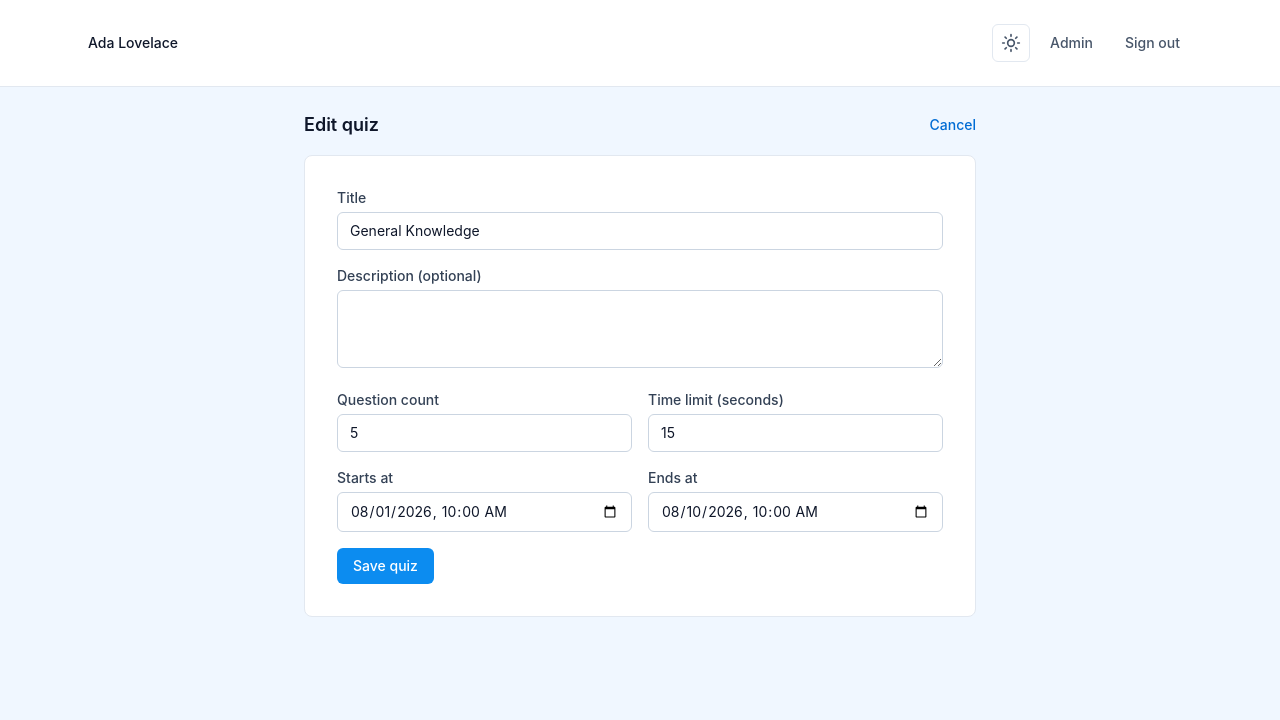
AdminQuizForm › should_prefill_from_list_fetch_and_submit_update_when_editing
Expected: the number field labelled "Question count" holds "5", [337,414,632,452]
Expected: the number field labelled "Time limit (seconds)" holds "15", [648,414,943,452]
Replace the text in the field labelled "Title" with "Renamed Quiz". click: x=640, y=231
box: [337,212,943,250]
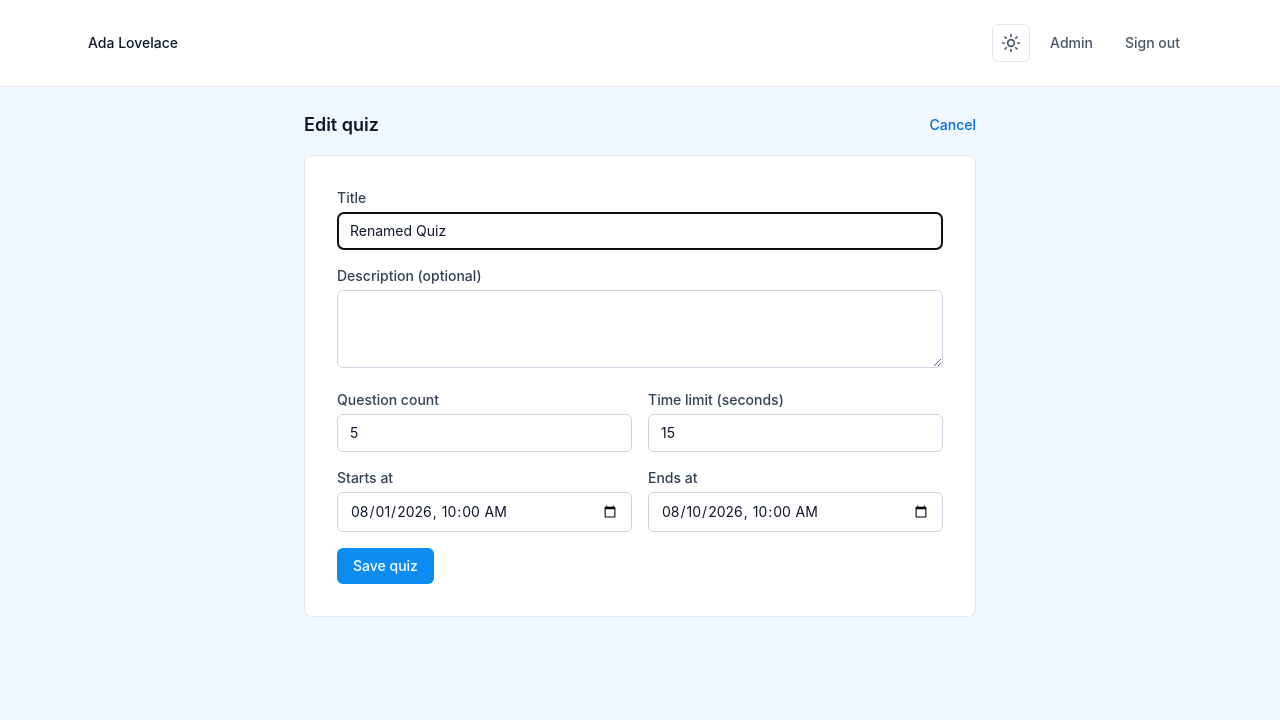
Click the button "Save quiz". click: x=386, y=566
box: [337,548,434,584]
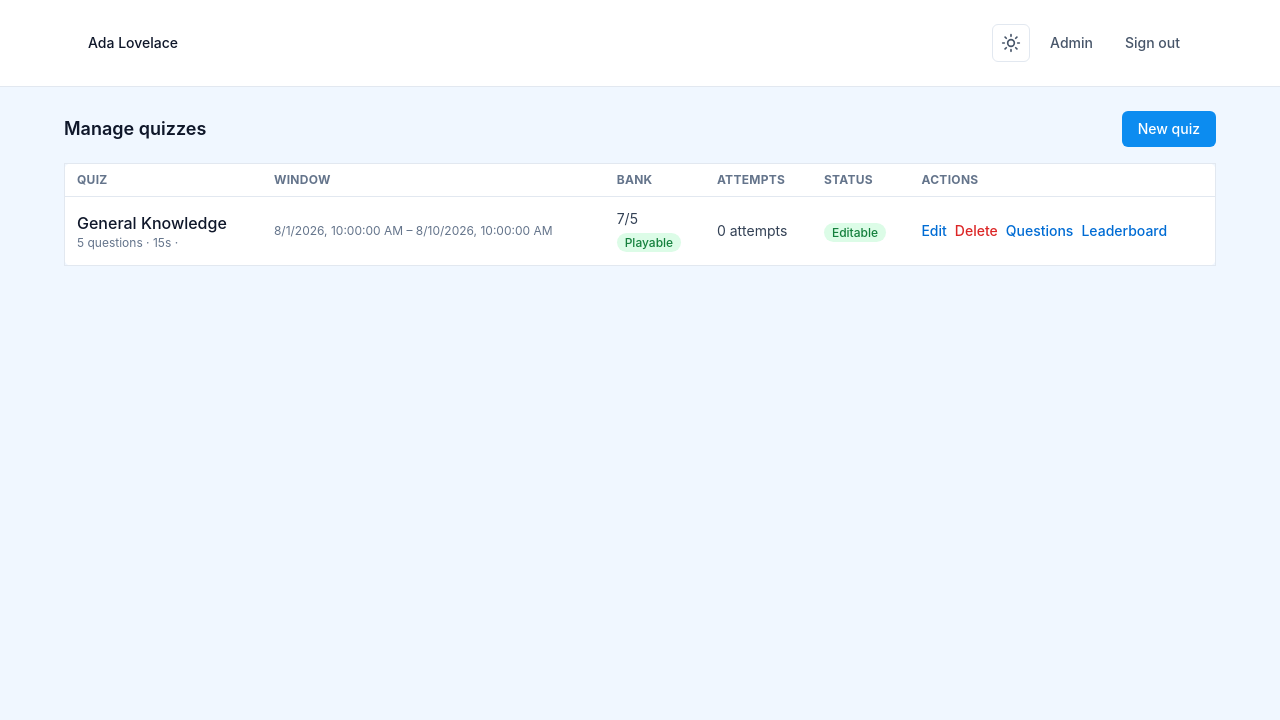
Expected: the heading "Manage quizzes" is shown, [64,115,206,143]
